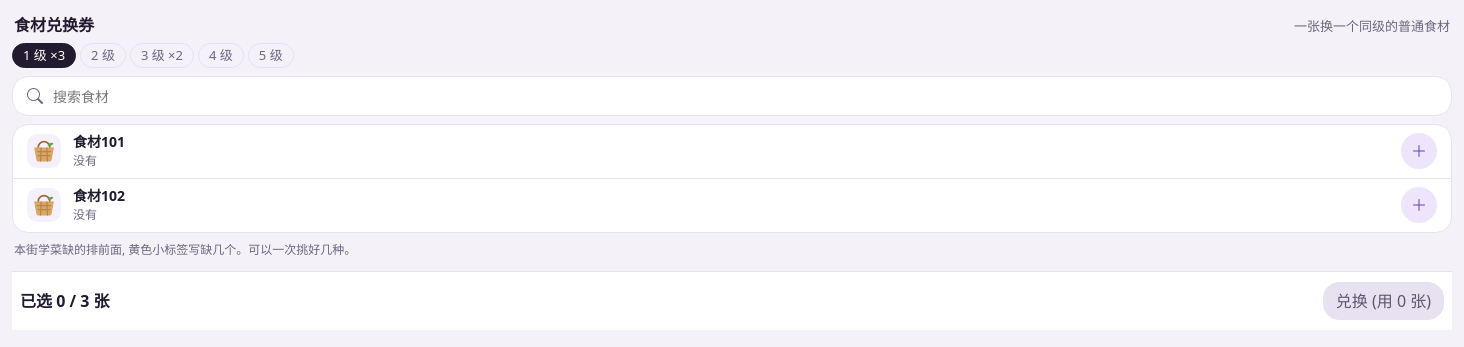
it: TicketPanel › 切换等级：已选的和搜索词都清空（491 遗留：缺的测试）
Click the button with test id "lt-add-101": (1419, 151) [1401, 133, 1437, 169]
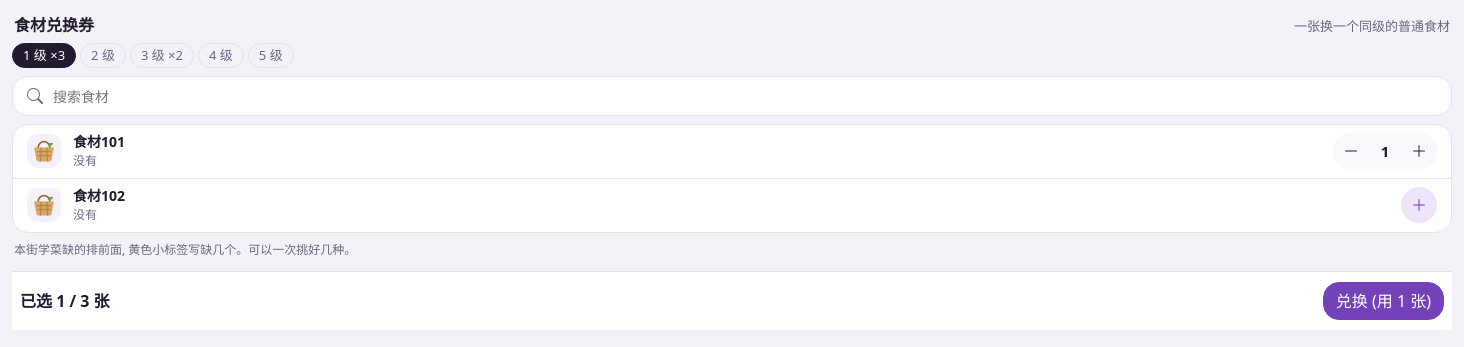
In the search field with test id "lt-search": (744, 96) [51, 84, 1437, 108], type "料"
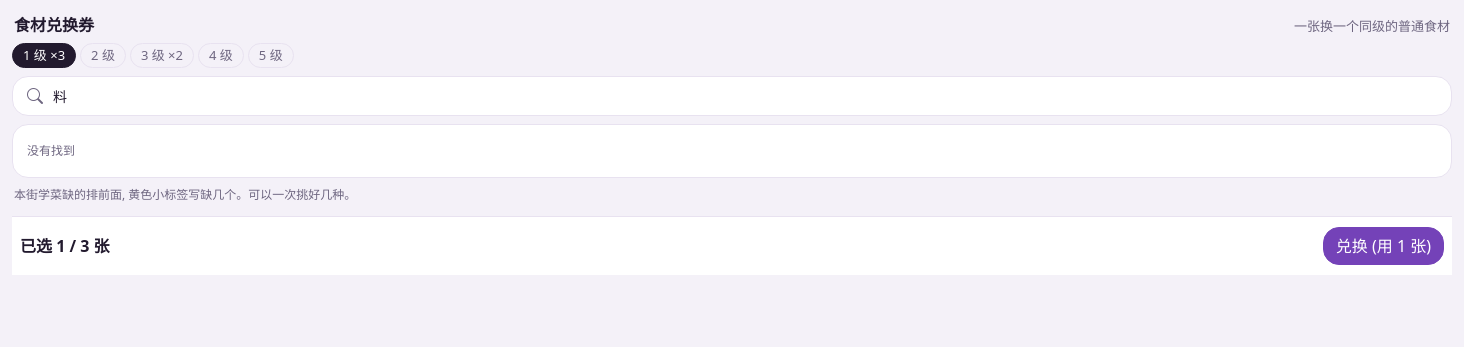
Click the button with test id "lt-level-3": (162, 55) [130, 42, 194, 68]
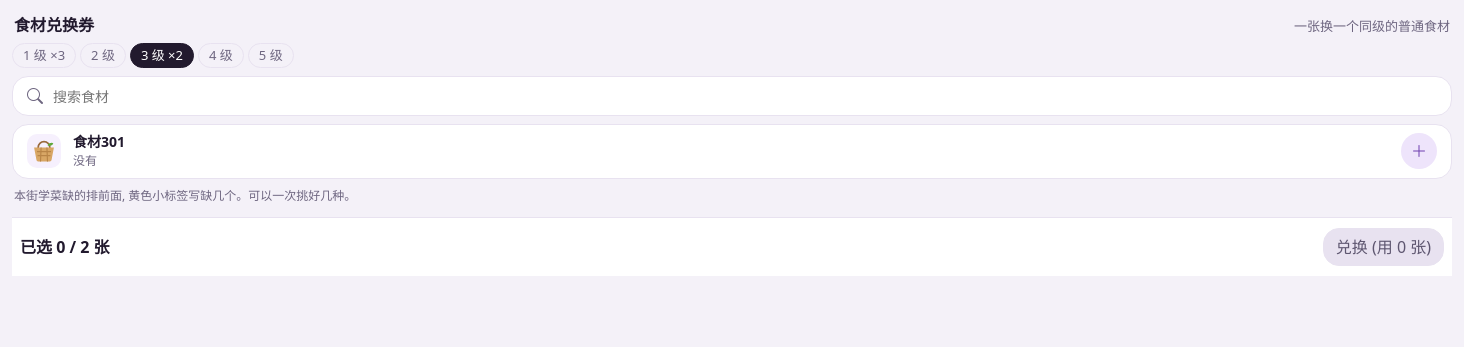
Expected: the search field with test id "lt-search" is empty, [51, 84, 1437, 108]
Click the button with test id "lt-level-1": (44, 55) [12, 42, 76, 68]
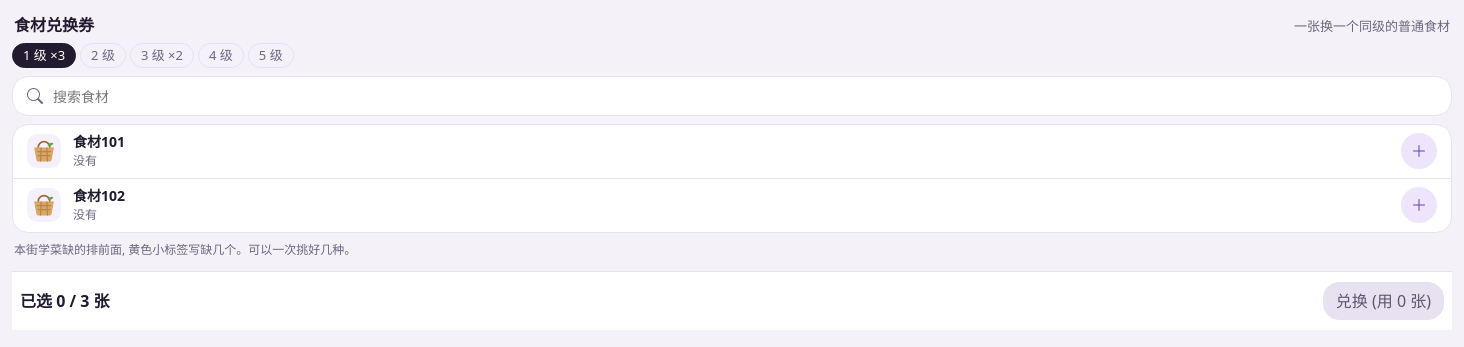
Expected: the text with test id "lt-picked" reads "已选 0 / 3 张", [20, 290, 110, 312]
